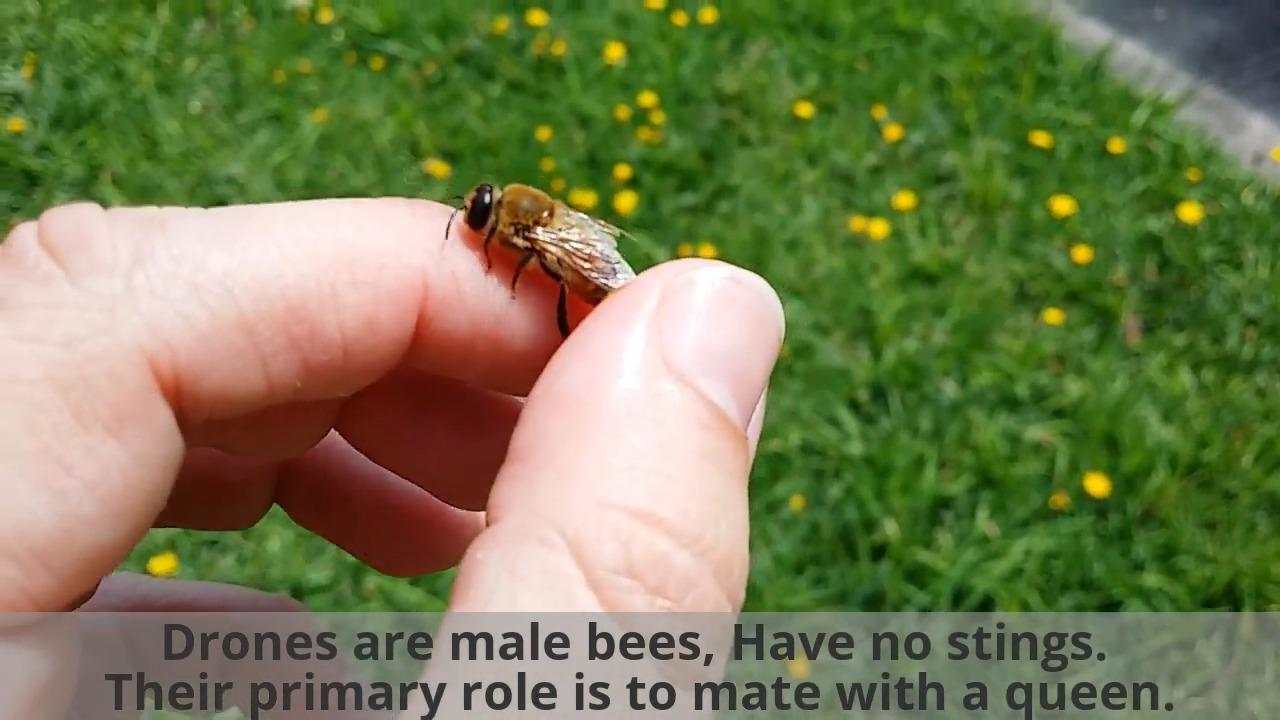drone: (463, 180, 623, 305)
